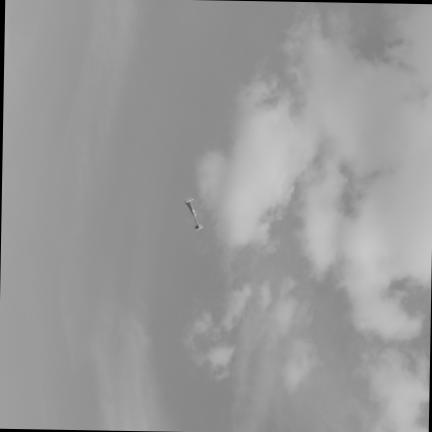Shahed: (184, 197, 202, 230)
